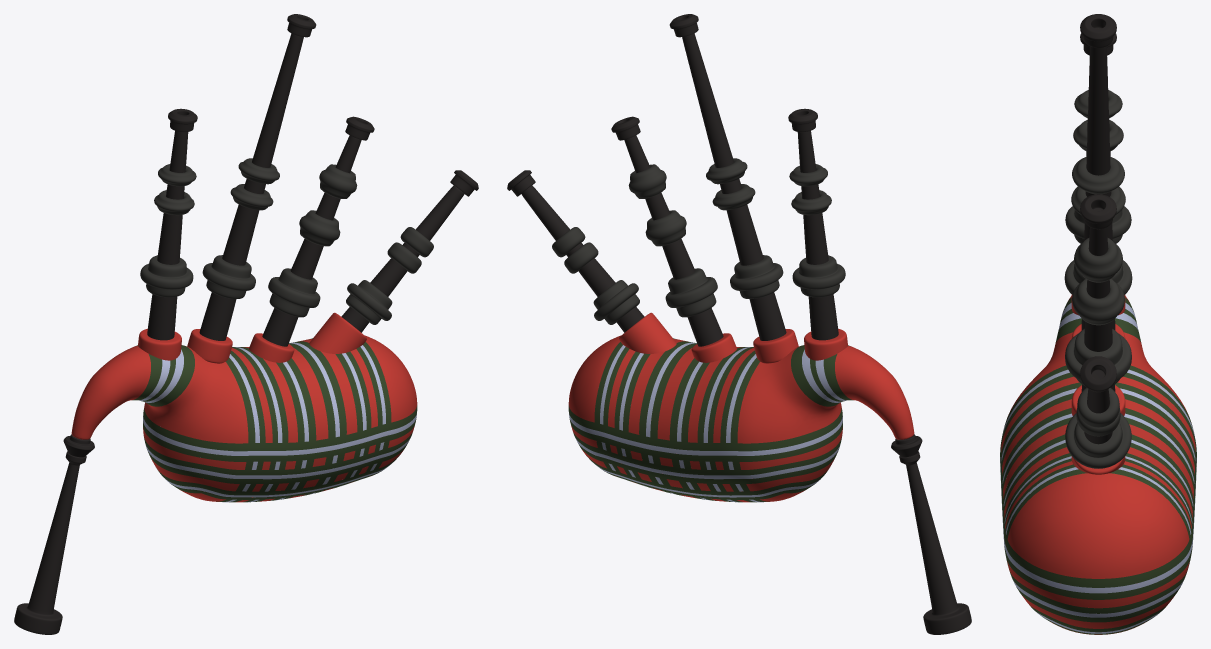
Rendered from bagpipes-3d-icon-1430208027279.glb.
The picture shows the model from 3 angles, left to right: view 1: azimuth 30°, elevation 25°; view 2: azimuth 150°, elevation 25°; view 3: azimuth 270°, elevation 25°; orthographic projection. The views are drawn at different scales.
Visible parts, largest first — view 1: Bag, Pipes, Pattern 1, Rings, Pattern 2; view 2: Bag, Pipes, Pattern 1, Rings, Pattern 2; view 3: Bag, Pattern 1, Rings, Pipes, Pattern 2.
Part boxes in pixels (x1,y1,x2,y2): Bag: (71,312,417,502); Pipes: (14,14,478,634); Pattern 1: (132,338,417,502); Rings: (140,158,433,324); Pattern 2: (139,342,416,502); Bag: (568,312,914,502); Pipes: (507,14,971,634); Pattern 1: (568,338,853,502); Rings: (552,158,845,324); Pattern 2: (569,342,846,502); Bag: (1001,294,1195,634); Pattern 1: (1000,297,1196,634); Rings: (1064,90,1132,468); Pipes: (1080,14,1116,444); Pattern 2: (1000,303,1196,633).
Size of the model in its own units: 1.72 by 1.98 by 0.5156.
